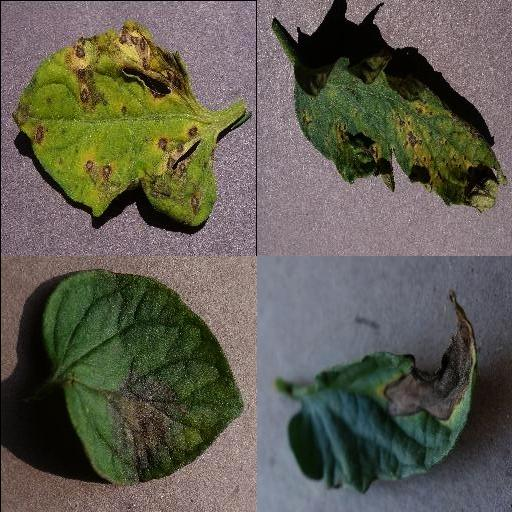Early Blight: (275, 296, 479, 492)
Late Blight: (40, 269, 242, 487)
Septoria: (12, 20, 214, 224), (293, 57, 507, 214)
